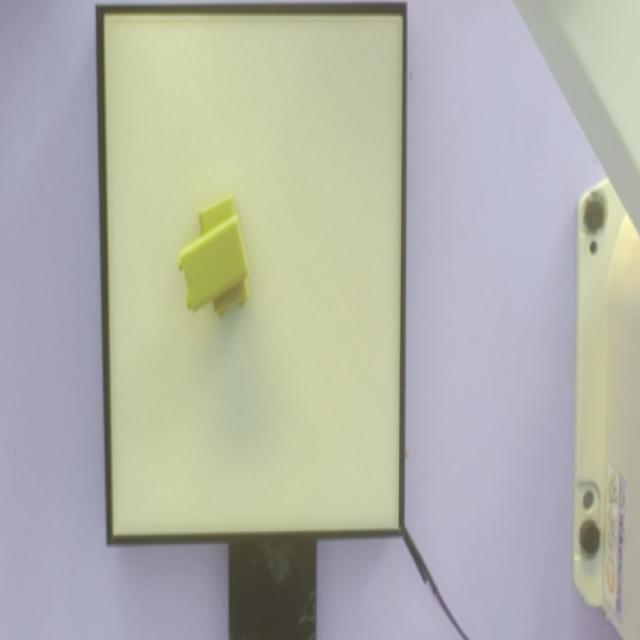bateria: (177, 215, 250, 315)
mesa: (96, 3, 406, 545)
